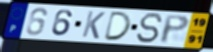6: (25, 7, 49, 37), (52, 9, 74, 37)
D: (102, 11, 133, 42)
K: (80, 10, 107, 40)
P: (159, 14, 191, 45)
S: (135, 12, 164, 45)
